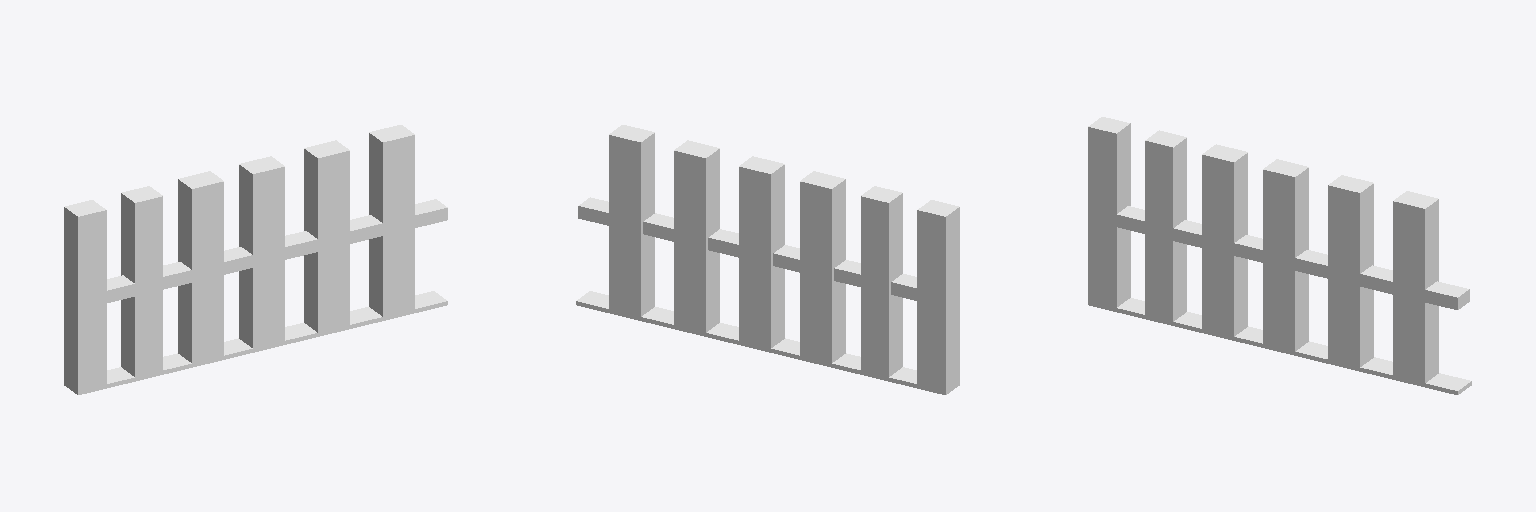
File: Zaun.obj
3 views of the same model, side by side, from view 1: azimuth 30°, elevation 25°; view 2: azimuth 150°, elevation 25°; view 3: azimuth 330°, elevation 25° (orthographic).
Parts seen in each view (by area): view 1: object 1; view 2: object 1; view 3: object 1.
Part boxes in pixels (left/top/right/bottom): object 1: left=64, top=125, right=447, bottom=394; object 1: left=576, top=125, right=959, bottom=394; object 1: left=1088, top=117, right=1471, bottom=394.
Bounding box in the file's own units: 9.1 × 4.2 × 0.6.